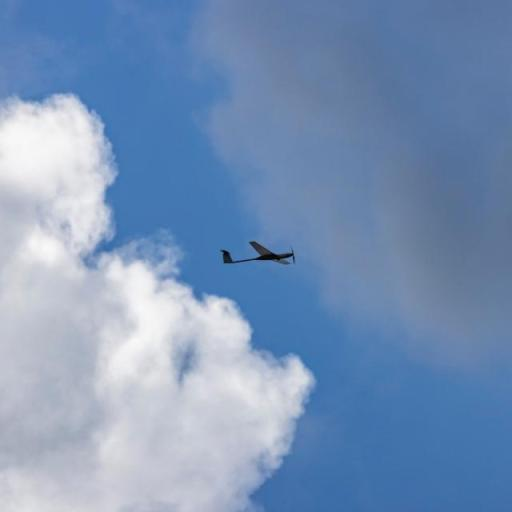uav: (205, 232, 319, 268)
